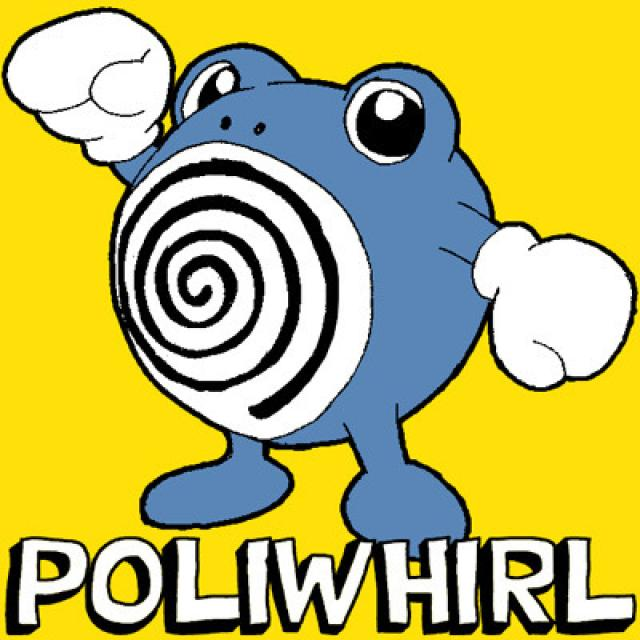Poliwhirl: (13, 11, 620, 531)
